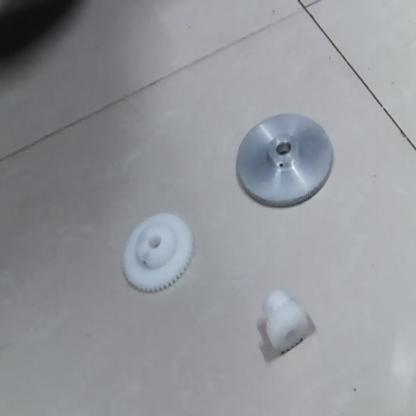FOD: (228, 119, 346, 213), (107, 206, 200, 297), (254, 284, 310, 362)
